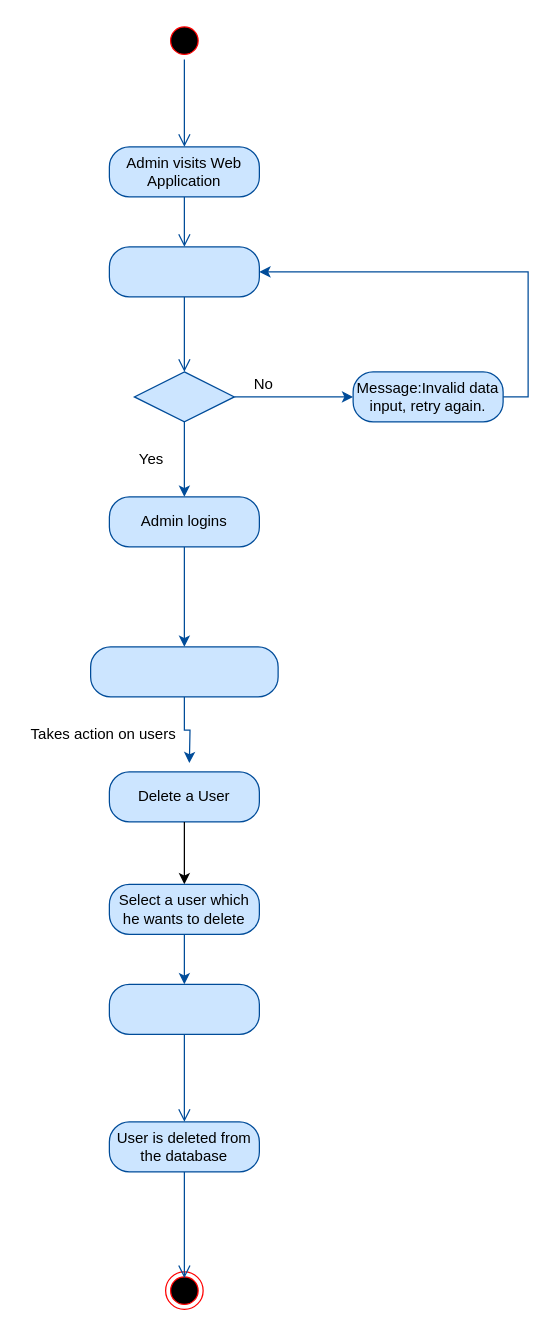
This 560x1331 diagram has some shape labels left out. The centre of each missing label's shape, as x and y in pixels:
Admin enters it's credentials: (183,271)
Admin enters manage users page: (183,671)
Delete the user: (183,1008)
